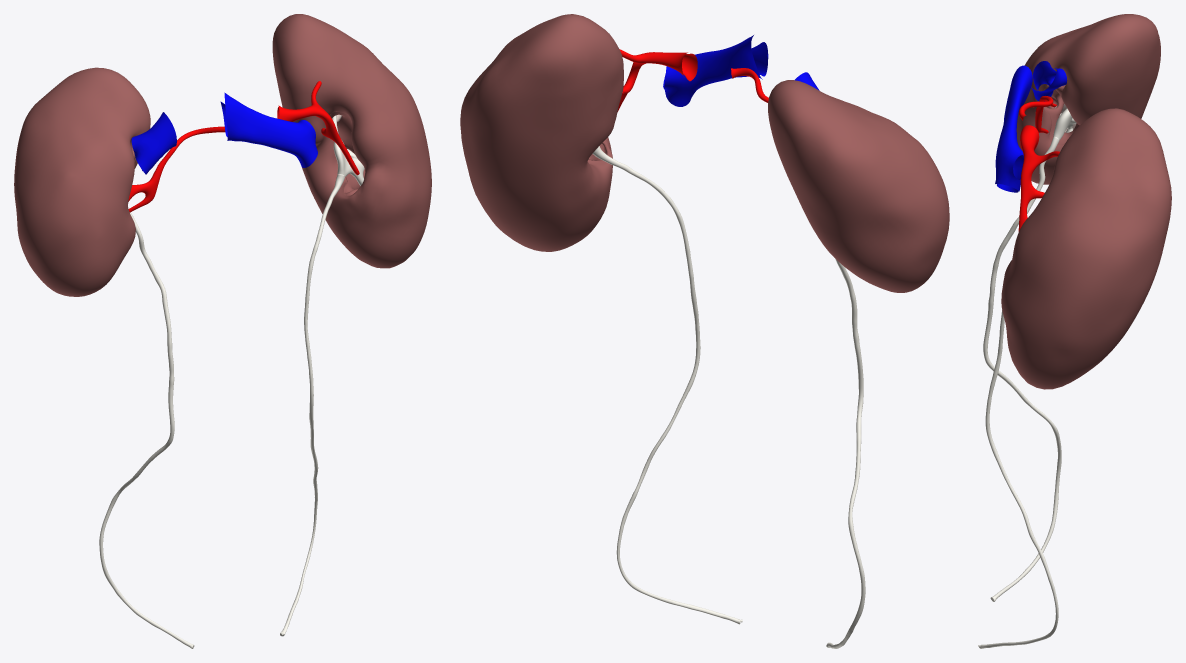
The model's file is renal-source.glb.
3 renders of one model, left to right at view 1: azimuth 30°, elevation 25°; view 2: azimuth 150°, elevation 25°; view 3: azimuth 270°, elevation 25°, orthographic. The views are drawn at different scales.
Parts seen in each view (by area): view 1: VH_F_kidney_capsule_L, VH_F_kidney_capsule_R, VH_F_left_renal_vein, VH_F_right_ureter, VH_F_left_ureter, VH_F_right_renal_vein, VH_F_left_renal_artery, VH_F_right_renal_artery, VH_F_hilum_of_kidney_L; view 2: VH_F_kidney_capsule_L, VH_F_kidney_capsule_R, VH_F_left_renal_vein, VH_F_left_ureter, VH_F_right_ureter, VH_F_left_renal_artery; view 3: VH_F_kidney_capsule_L, VH_F_kidney_capsule_R, VH_F_left_renal_vein, VH_F_right_ureter, VH_F_left_ureter, VH_F_left_renal_artery, VH_F_right_renal_vein, VH_F_hilum_of_kidney_R, VH_F_right_renal_artery, VH_F_renal_pelvis_R.
Boxes of the visible parts, x1,y1,x2,y2 form: VH_F_kidney_capsule_L: (272,14,431,268); VH_F_kidney_capsule_R: (14,67,150,296); VH_F_left_renal_vein: (220,92,317,167); VH_F_right_ureter: (99,212,194,648); VH_F_left_ureter: (280,174,344,636); VH_F_right_renal_vein: (131,112,176,174); VH_F_left_renal_artery: (277,81,359,175); VH_F_right_renal_artery: (128,126,225,212); VH_F_hilum_of_kidney_L: (329,112,365,195); VH_F_kidney_capsule_L: (460,14,623,251); VH_F_kidney_capsule_R: (768,80,949,292); VH_F_left_renal_vein: (663,35,768,106); VH_F_left_ureter: (592,146,742,624); VH_F_right_ureter: (826,258,865,648); VH_F_left_renal_artery: (617,49,697,111); VH_F_kidney_capsule_L: (1001,108,1171,389); VH_F_kidney_capsule_R: (1016,14,1160,184); VH_F_left_renal_vein: (995,65,1032,192); VH_F_right_ureter: (983,137,1061,601); VH_F_left_ureter: (978,310,1058,648); VH_F_left_renal_artery: (1018,125,1059,231); VH_F_right_renal_vein: (1031,61,1067,101); VH_F_hilum_of_kidney_R: (1043,85,1078,145); VH_F_right_renal_artery: (1019,96,1056,133); VH_F_renal_pelvis_R: (1053,108,1072,140).
Size of the model in its own units: 0.2219 by 0.2915 by 0.0882.
